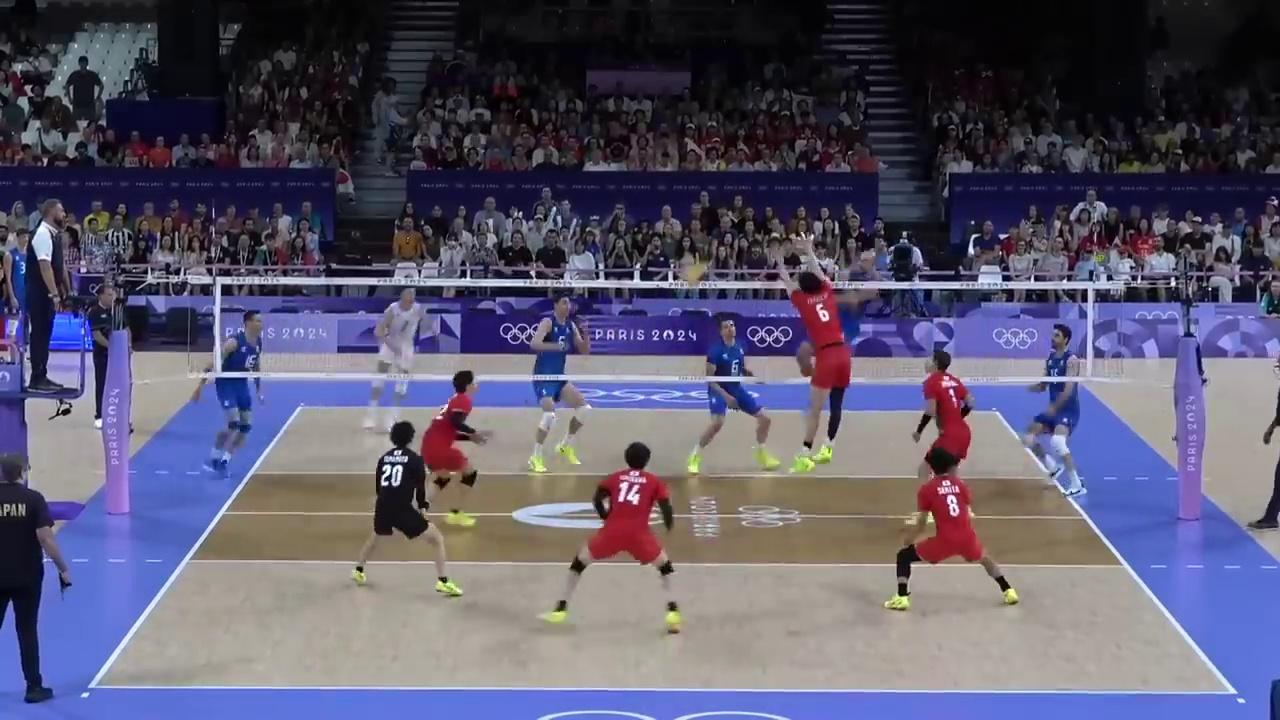ball: (676, 262, 705, 282)
